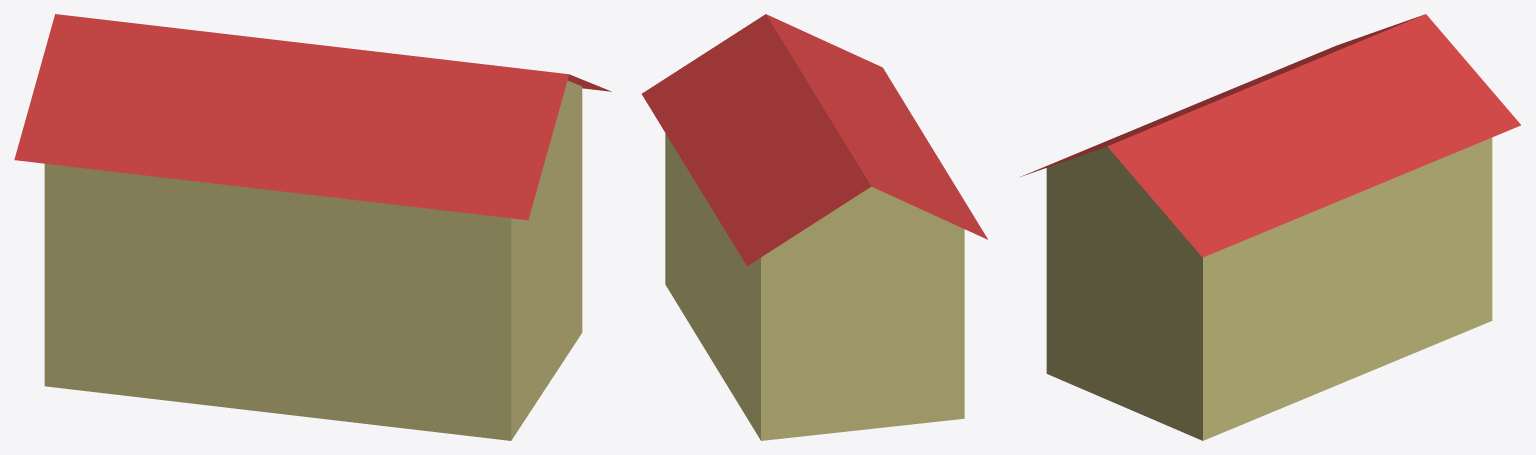
3 views of the same model, side by side, from view 1: azimuth 30°, elevation 25°; view 2: azimuth 150°, elevation 25°; view 3: azimuth 270°, elevation 25° (orthographic). The views are drawn at different scales.
Visible parts, largest first — view 1: group_5, group_3, group_4; view 2: group_5, group_3, group_4; view 3: group_5, group_3, group_4.
Boxes of the visible parts, left/top/right/bottom form: group_5: left=44, top=80, right=582, bottom=440; group_3: left=14, top=14, right=611, bottom=220; group_4: left=59, top=15, right=606, bottom=219; group_5: left=665, top=133, right=964, bottom=440; group_3: left=642, top=14, right=987, bottom=266; group_4: left=642, top=14, right=908, bottom=185; group_5: left=1046, top=137, right=1492, bottom=440; group_3: left=1035, top=14, right=1520, bottom=257; group_4: left=1021, top=14, right=1425, bottom=257.
Size of the model in its own units: 18.2 by 18.28 by 10.64.
